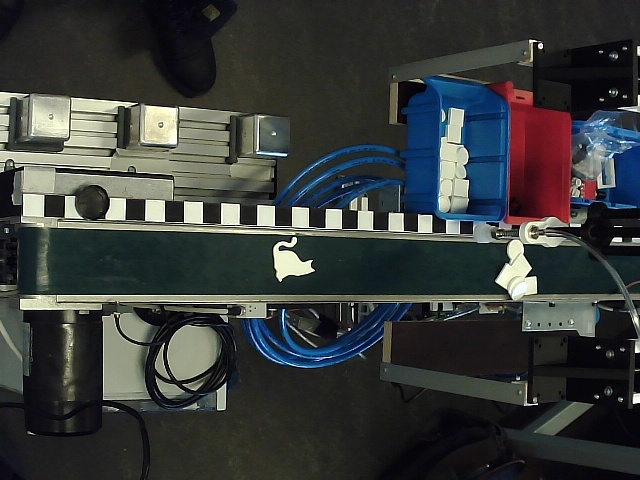cat: (272, 237, 316, 283)
